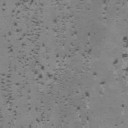oxide scale of temperature system: (1, 2, 128, 128), (36, 112, 45, 123)
